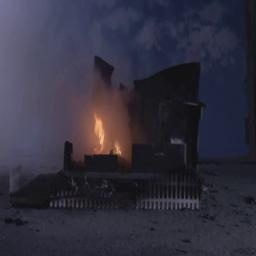fire: (79, 95, 124, 159)
smoke: (0, 2, 83, 105)
